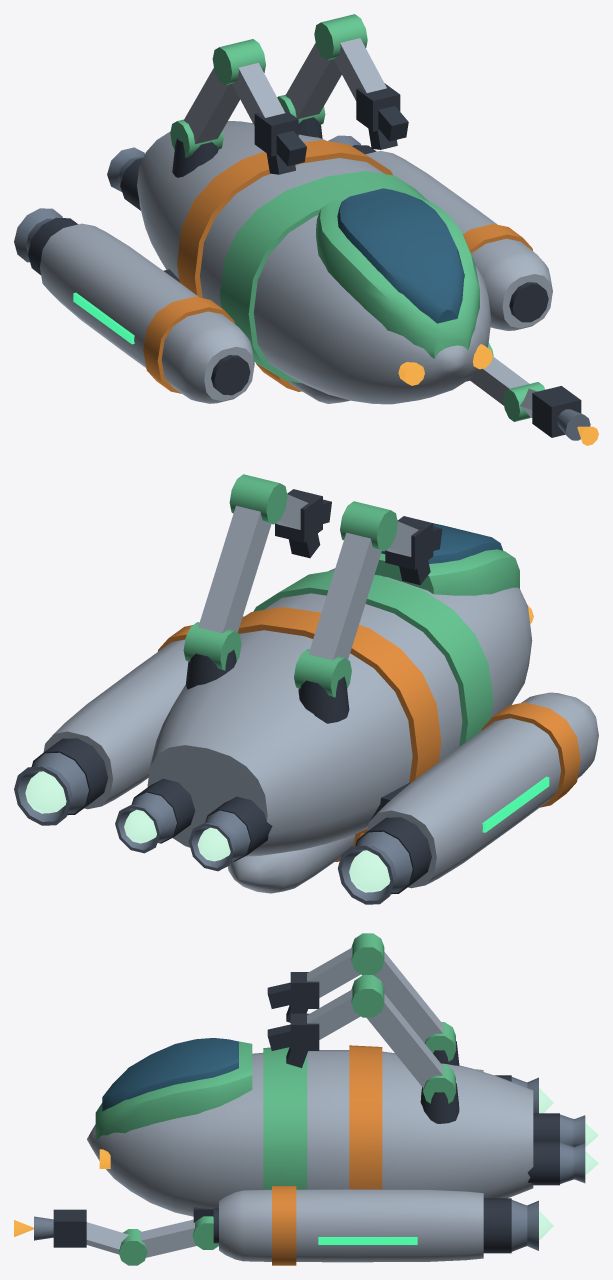
File: repair_drone.glb
3 renders of one model, top to bottom at view 1: azimuth 30°, elevation 25°; view 2: azimuth 150°, elevation 25°; view 3: azimuth 270°, elevation 25°, orthographic. The views are drawn at different scales.
Parts seen in each view (by area): view 1: repair_drone; view 2: repair_drone; view 3: repair_drone.
Boxes of the visible parts, left/top/right/bottom form: repair_drone: left=14, top=14, right=598, bottom=445; repair_drone: left=14, top=474, right=598, bottom=904; repair_drone: left=14, top=933, right=598, bottom=1265.
Size of the model in its own units: 3.35 by 2.87 by 5.31.
